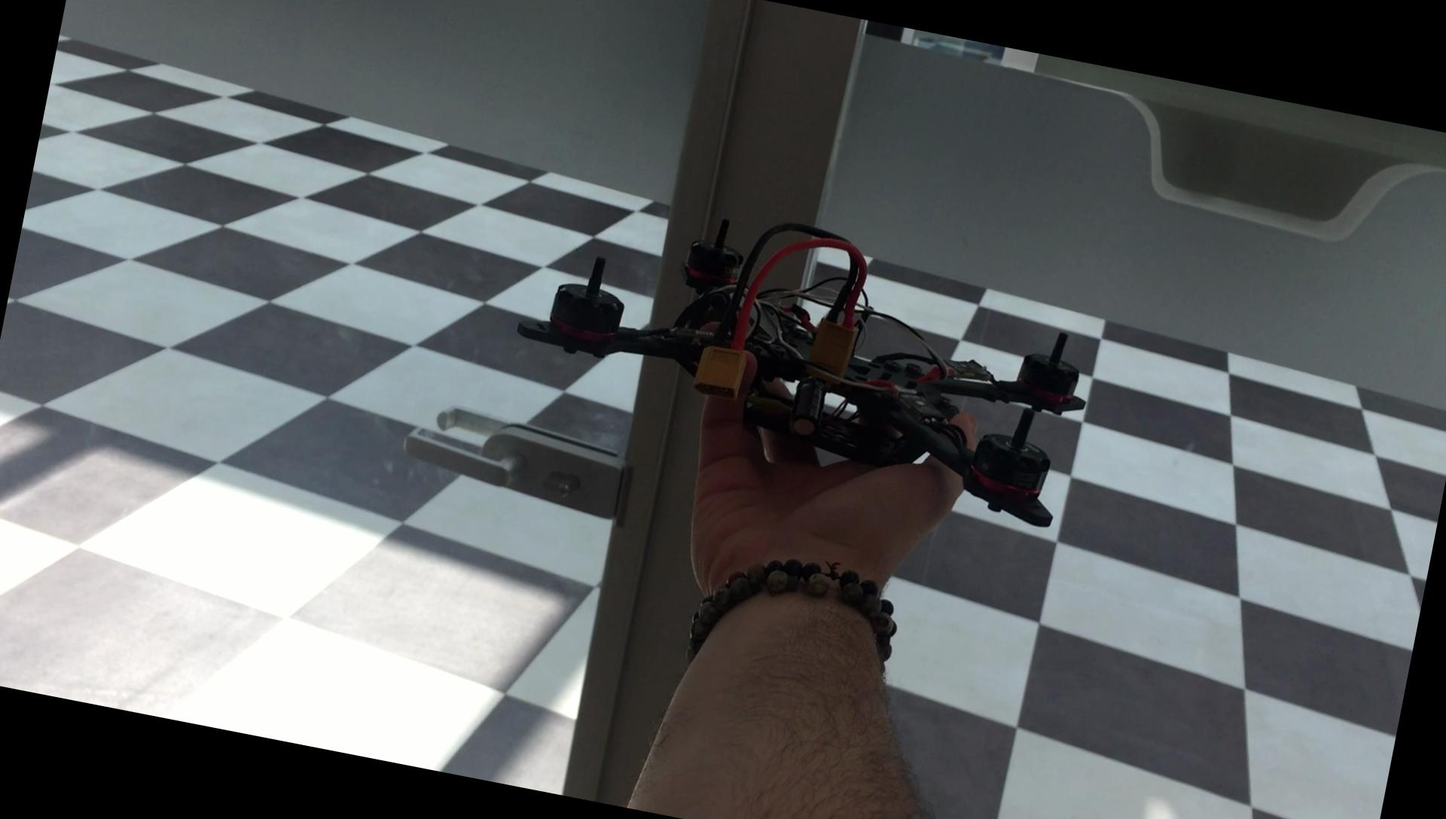drone: (471, 145, 1144, 549)
